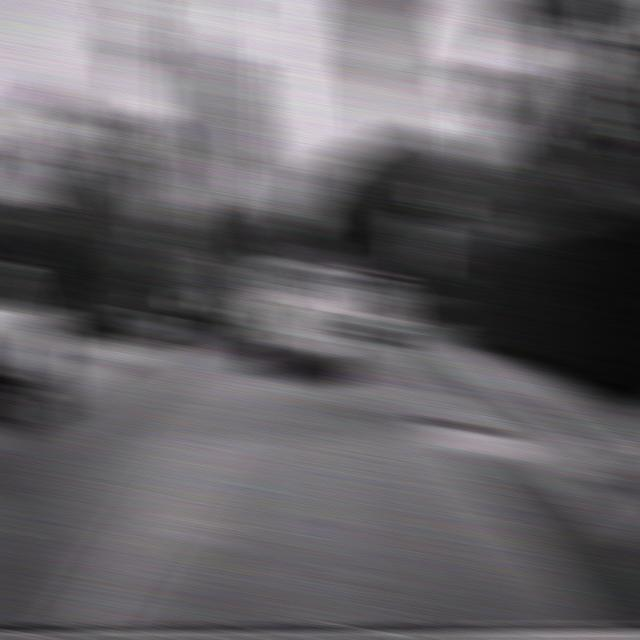stop: (399, 213, 438, 246)
